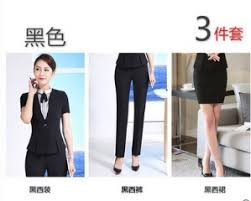F_dress pants: (99, 58, 152, 161)
F_tailored skirt: (186, 61, 233, 106)
